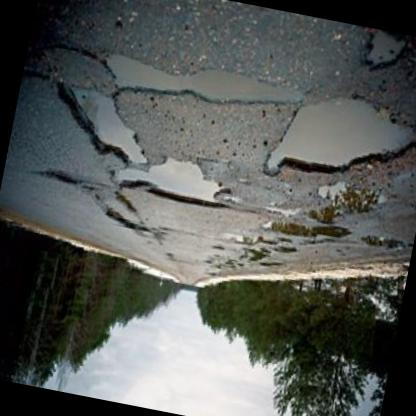pothole: (258, 79, 416, 209), (96, 42, 303, 128), (41, 80, 161, 170), (108, 144, 236, 210), (305, 176, 386, 236), (258, 214, 350, 252), (90, 185, 156, 237), (360, 29, 408, 80), (358, 234, 406, 256), (38, 166, 81, 190)
